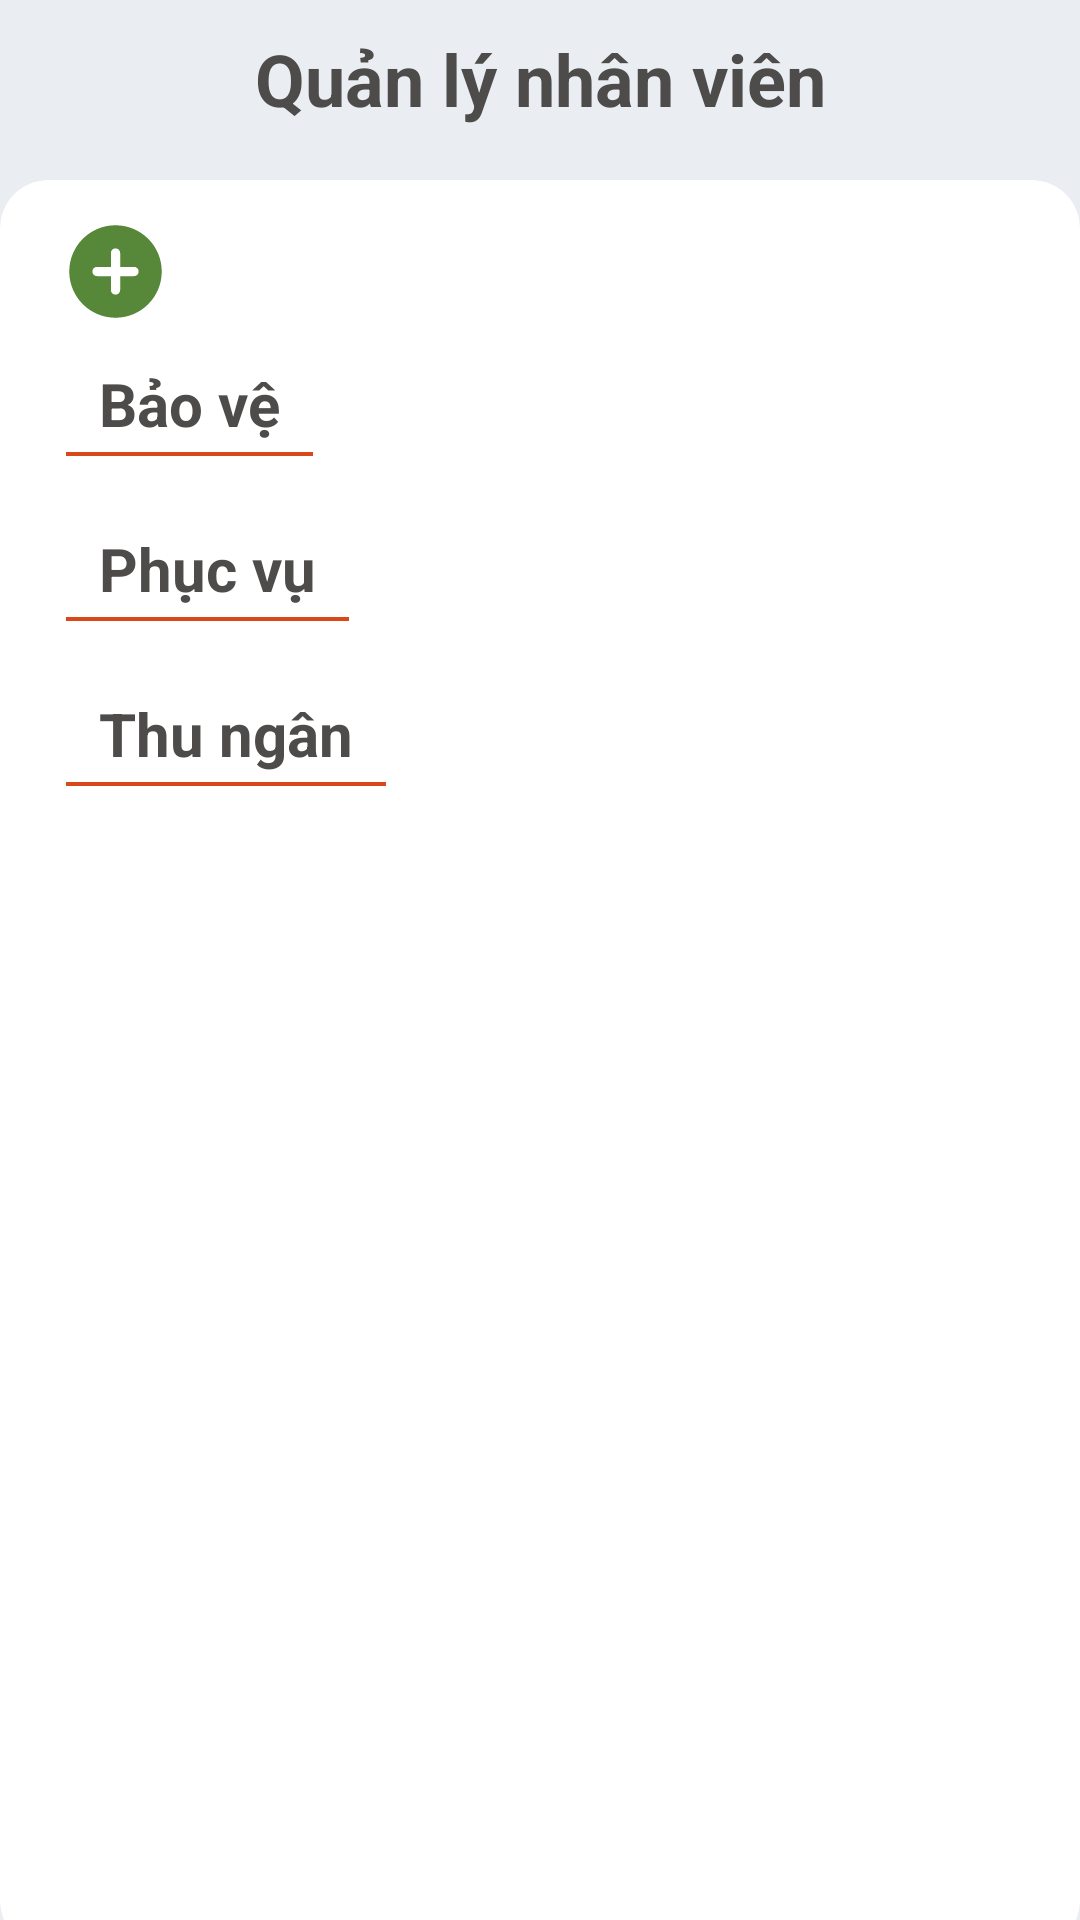

Named icons in this screenshot (1080*1920) and their centers, [x,y]:
add circle: [115,271]
